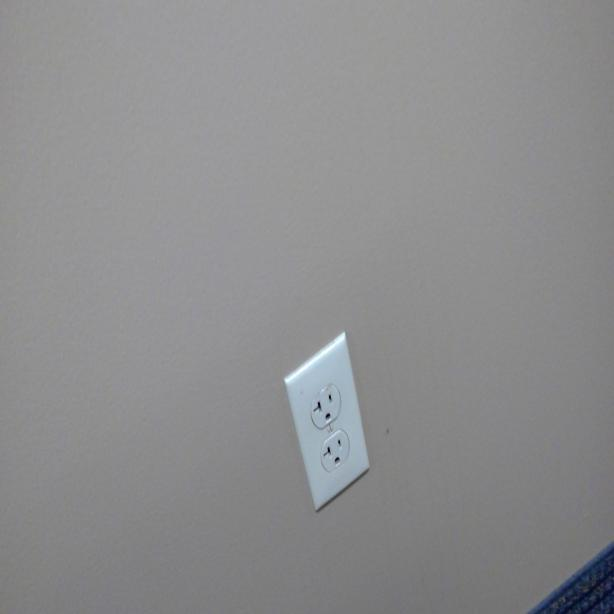typeb: (313, 384, 341, 426), (322, 435, 348, 465)
